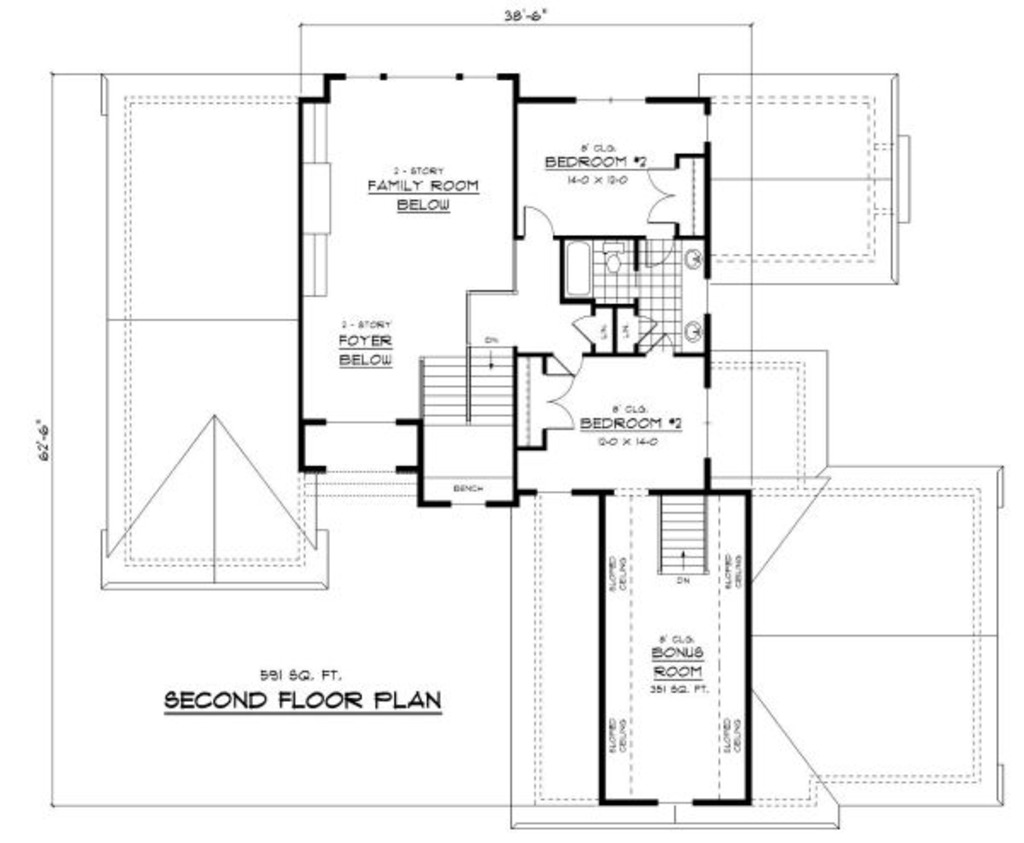door: (642, 165, 682, 226), (541, 368, 579, 430), (519, 202, 557, 244), (570, 309, 600, 352)
large_sink: (595, 237, 628, 273)
small_sink: (675, 242, 707, 359)
stairs: (415, 344, 517, 502), (655, 491, 708, 586)
tub: (562, 237, 592, 299)
windows: (341, 68, 506, 85), (567, 92, 649, 108)
